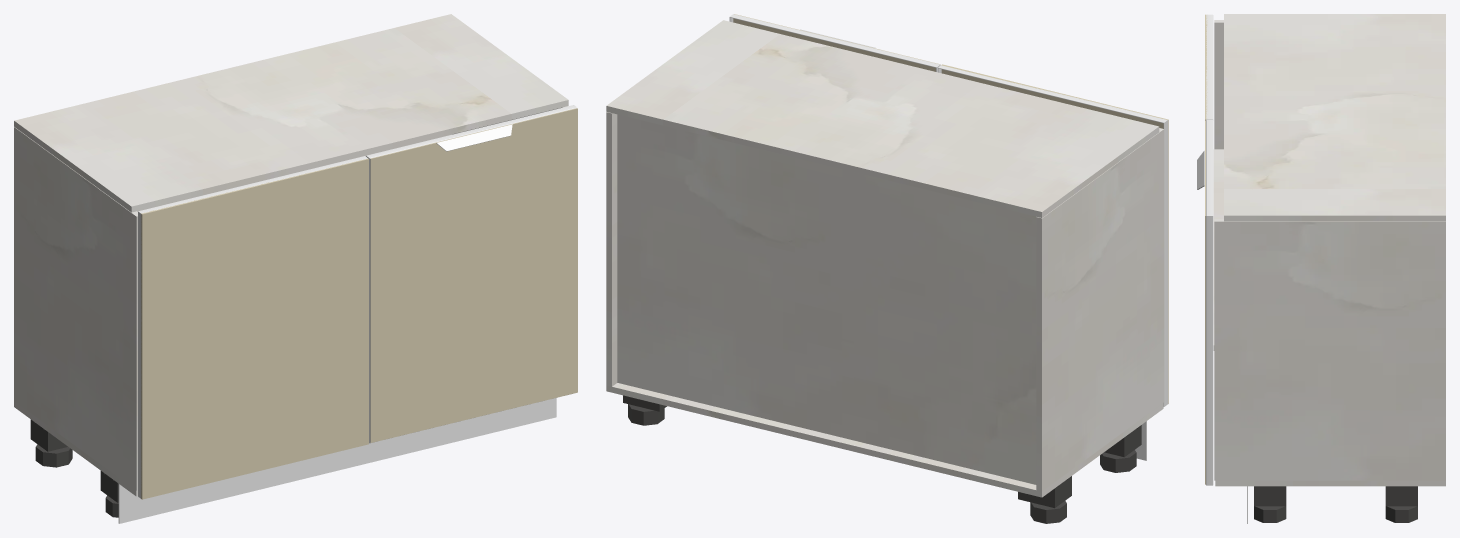
File: S550_BBC1S1HS_LH_ EH (H720xW1150xD560).glb
The picture shows the model from 3 angles, left to right: view 1: azimuth 30°, elevation 25°; view 2: azimuth 150°, elevation 25°; view 3: azimuth 270°, elevation 25°; orthographic projection. The views are drawn at different scales.
Size of what is drawn, in the model's own units: 1.15 by 0.82 by 0.5999.
5 materials, 1 textured.
